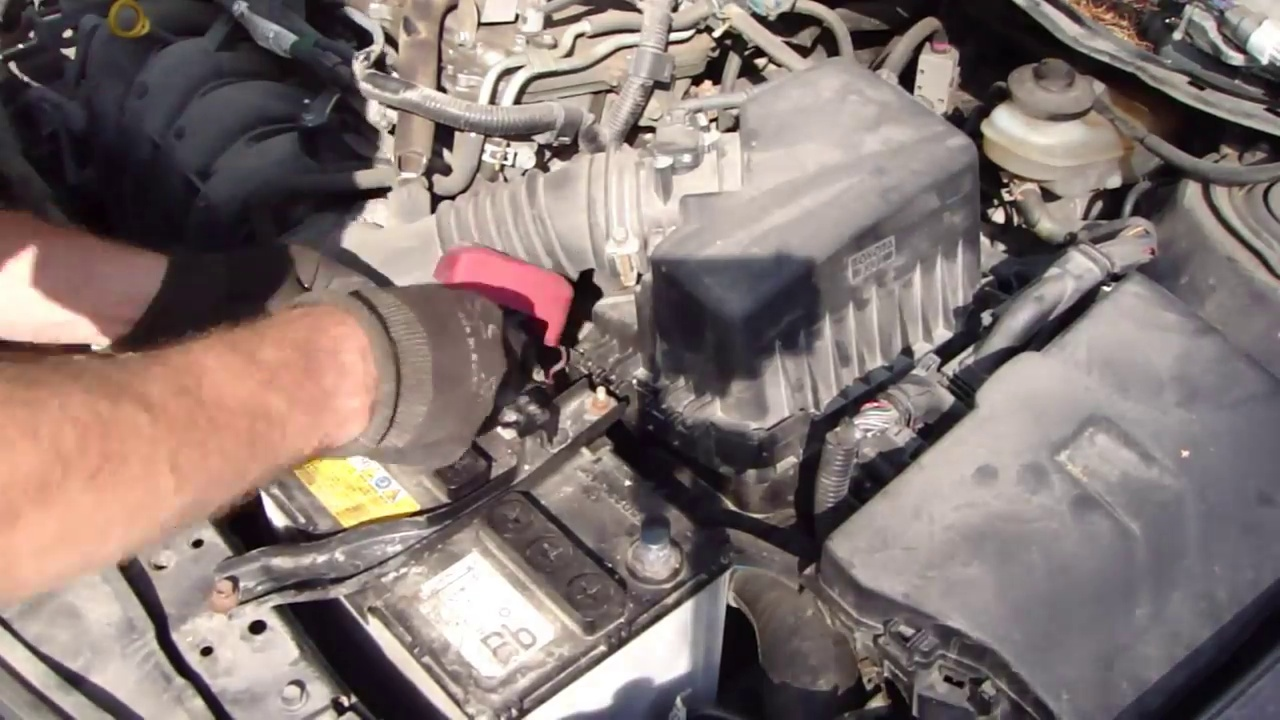battery: (263, 307, 727, 709)
neg_disconnected: (605, 500, 709, 592)
pos_touched: (309, 244, 571, 435)
